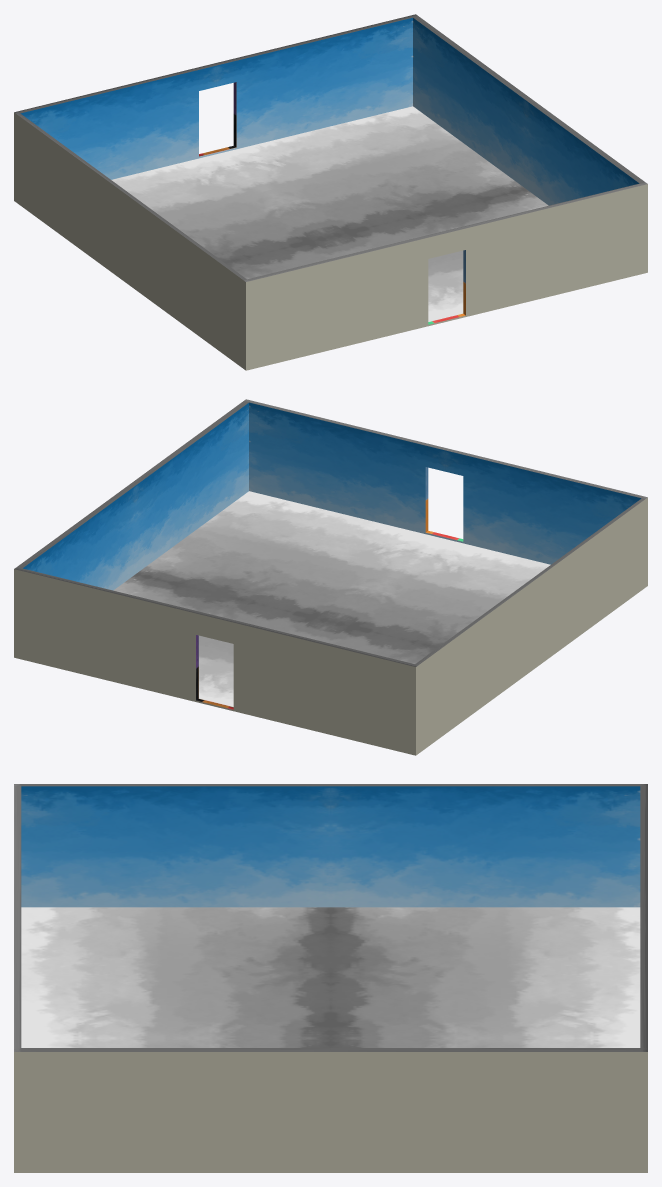
The model's file is Room_001.gltf.
3 renders of one model, top to bottom at view 1: azimuth 30°, elevation 25°; view 2: azimuth 150°, elevation 25°; view 3: azimuth 270°, elevation 25°, orthographic. The views are drawn at different scales.
Parts seen in each view (by area): view 1: Room_001; view 2: Room_001; view 3: Room_001.
Part boxes in pixels (<box>): Room_001: <box>14,14,647,370</box>; Room_001: <box>14,399,647,755</box>; Room_001: <box>14,784,647,1172</box>.
Bounding box in the file's own units: 16 × 3.37 × 16.
Materials: 1 (1 with a texture image).
